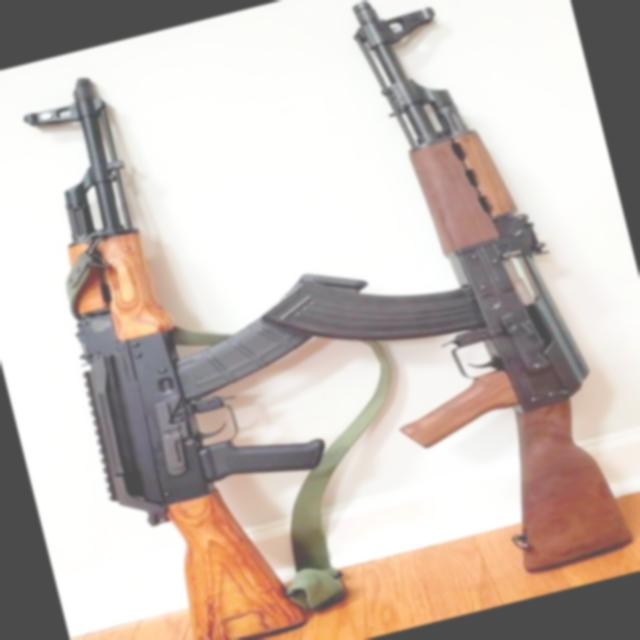ak: (0, 20, 447, 640), (229, 0, 640, 616)
